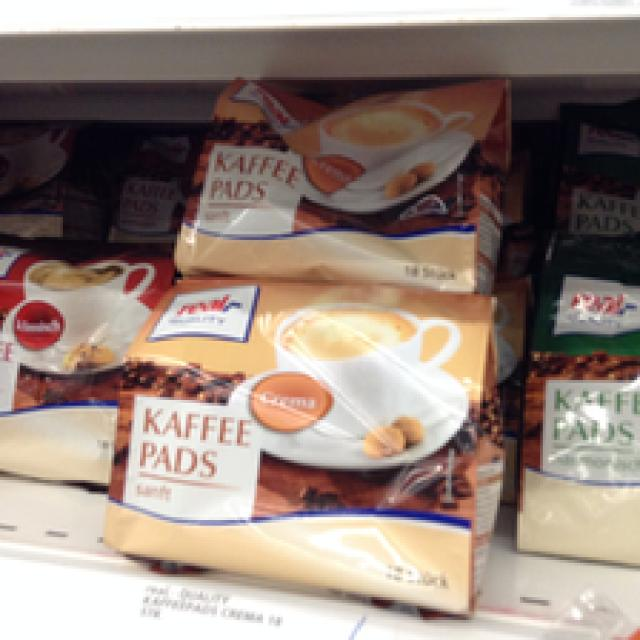groceries: (106, 274, 503, 617), (172, 80, 508, 286), (0, 240, 154, 480)
